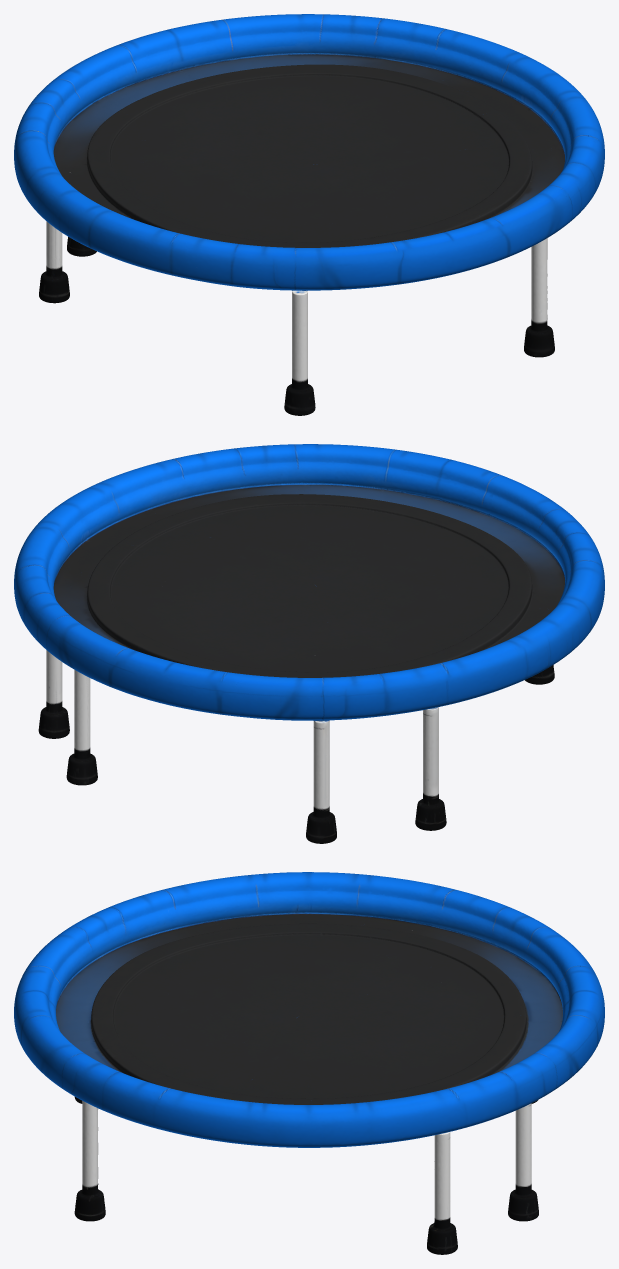
The model's file is Trampoline.fbx.
3 views of the same model, one above another, from view 1: azimuth 30°, elevation 25°; view 2: azimuth 150°, elevation 25°; view 3: azimuth 270°, elevation 25° (orthographic).
Visible parts, largest first — view 1: Mesh_0; view 2: Mesh_0; view 3: Mesh_0.
Boxes of the visible parts, x1,y1,x2,y2 form: Mesh_0: [14, 14, 604, 415]; Mesh_0: [14, 444, 604, 843]; Mesh_0: [14, 872, 604, 1254].
Bounding box in the file's own units: 190 × 59.12 × 190.
Materials: 1 (1 with a texture image).
